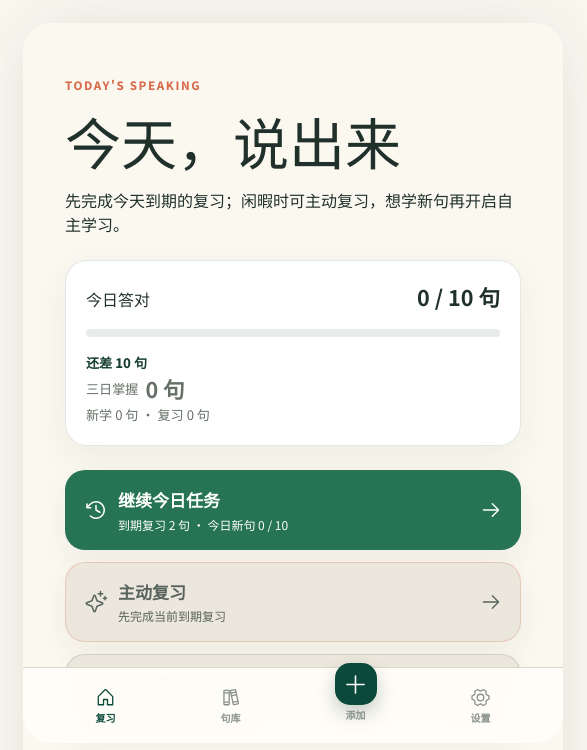
Scenario: PhraseBankApp › counts and reviews only due phrases that are learned or mastered
Click the button "继续今日任务 到期复习 2 句 · 今日新句 0 / 10": point(169, 500) [65, 470, 521, 550]
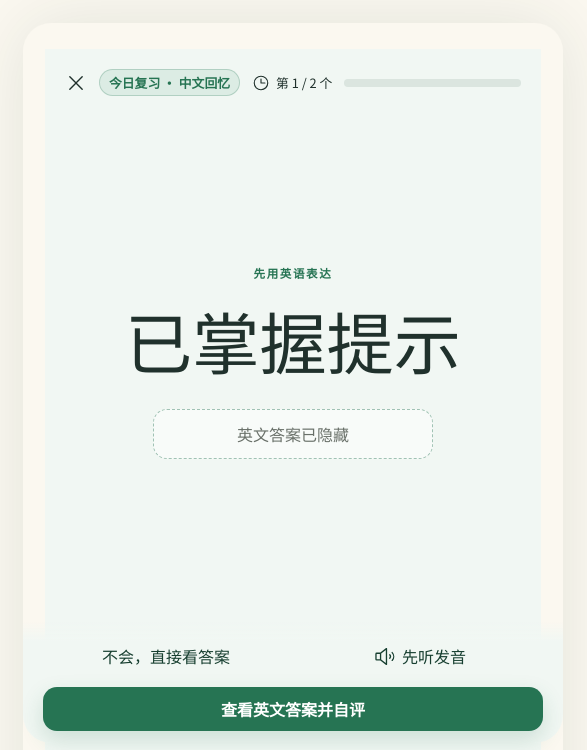
Check: the text "Missing state" is not shown
Check: the text "第 1 / 2 个" is shown, box [252, 73, 332, 92]
Click the button "查看英文答案并自评": point(293, 709) [43, 687, 543, 731]
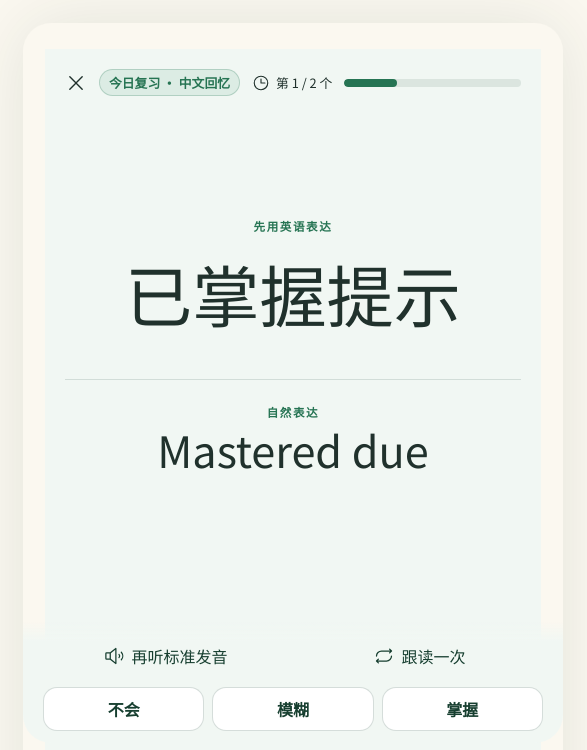
Click the button "掌握": point(462, 709) [382, 687, 543, 731]
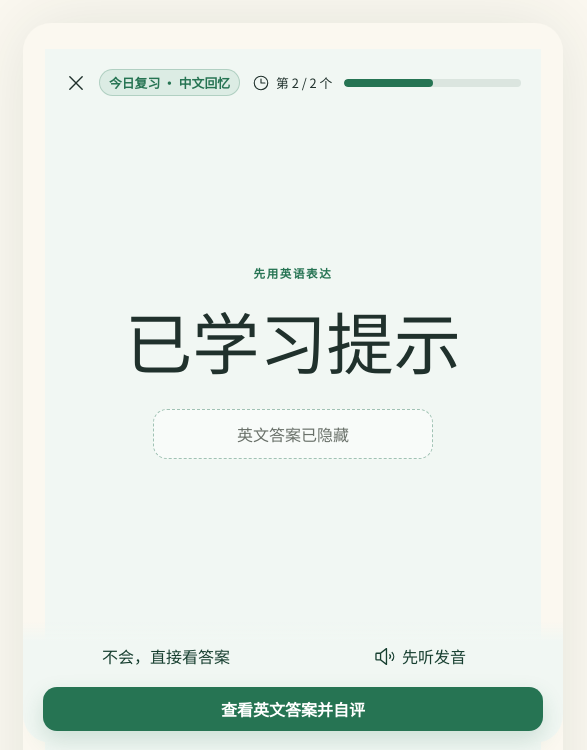
Check: the heading "已学习提示" is shown, box [125, 291, 461, 388]
Check: the heading "已学习提示" no longer shows "已掌握提示"
Check: the text "第 2 / 2 个" is shown, box [252, 73, 332, 92]
Click the button "查看英文答案并自评": point(293, 709) [43, 687, 543, 731]
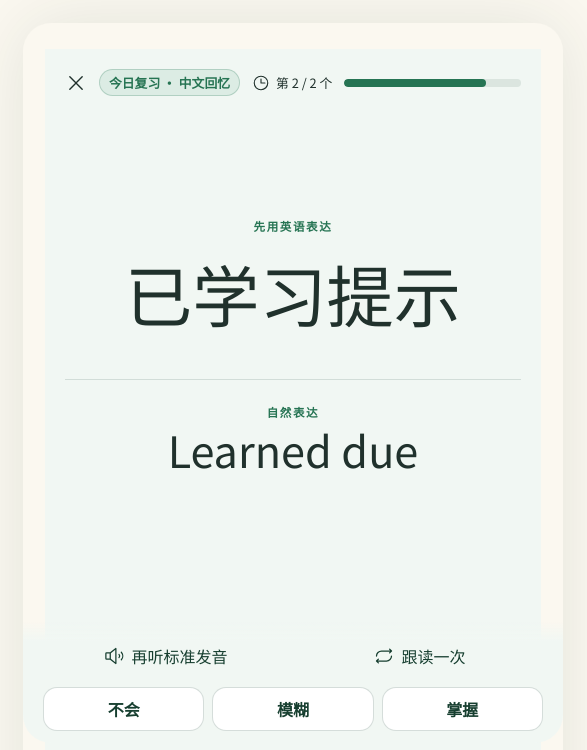
Click the button "掌握": point(462, 709) [382, 687, 543, 731]
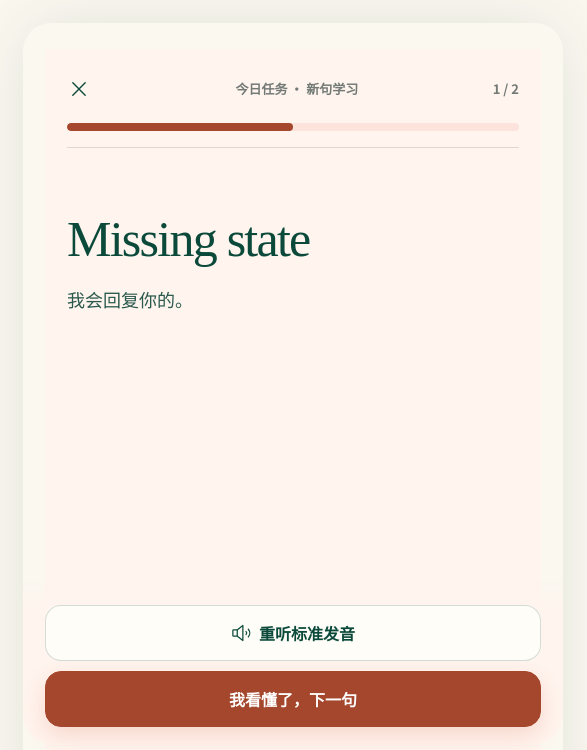
Check: the text "今日任务 · 新句学习" is shown, box [235, 79, 358, 99]
